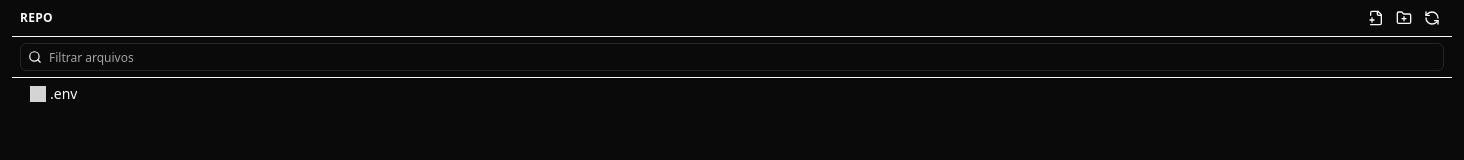
<FileTree /> › mostra dica de atalho ao renomear inline
Expected: the text ".env" is shown, [50,84,77,104]
Right-click the button ".env".
right_click(38, 94)  # box [12,82,1452,106]
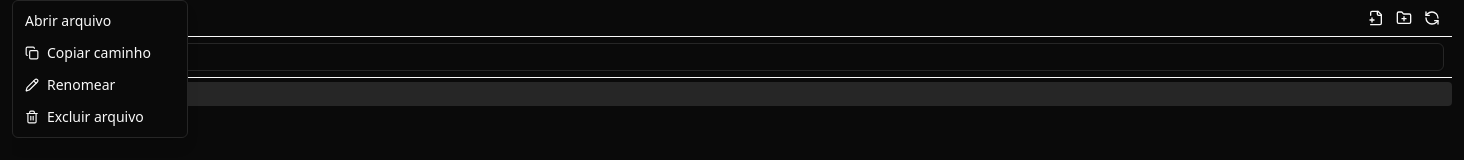
Click the menu item "Renomear".
click(100, 85)  # box [17,69,183,101]
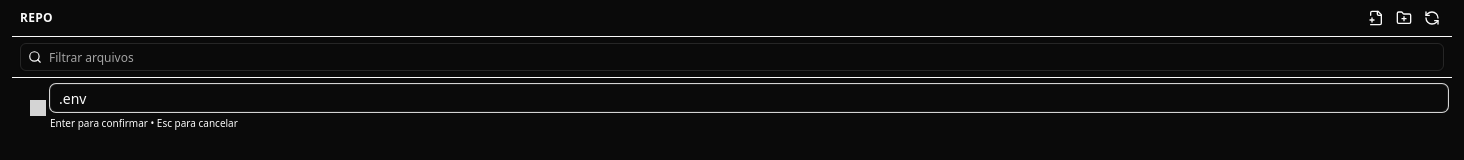
Expected: the text "Enter para confirmar • Esc para cancelar" is shown, [50,116,238,130]
